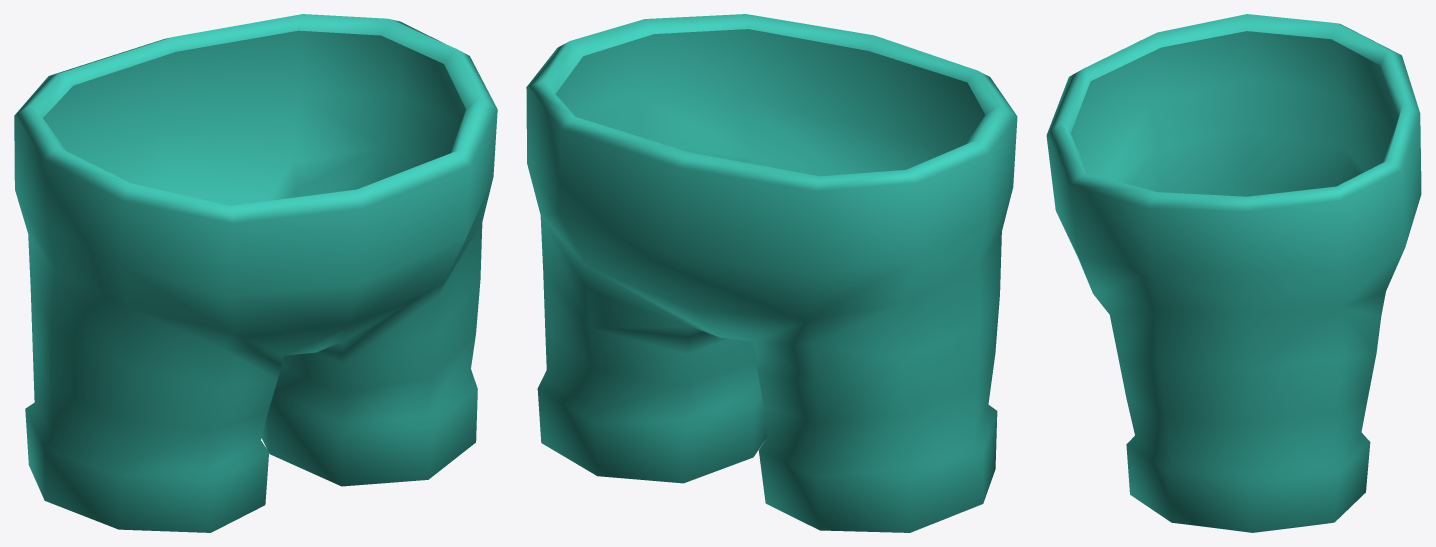
Rendered from Bottom_8.fbx.
The picture shows the model from 3 angles, left to right: view 1: azimuth 30°, elevation 25°; view 2: azimuth 150°, elevation 25°; view 3: azimuth 270°, elevation 25°; orthographic projection. The views are drawn at different scales.
Parts seen in each view (by area): view 1: Bottom_8; view 2: Bottom_8; view 3: Bottom_8.
Part boxes in pixels (bbox=[...]): Bottom_8: bbox=[14, 14, 497, 532]; Bottom_8: bbox=[526, 14, 1017, 532]; Bottom_8: bbox=[1046, 14, 1421, 532].
Bounding box in the file's own units: 38.42 × 32.12 × 31.34.
